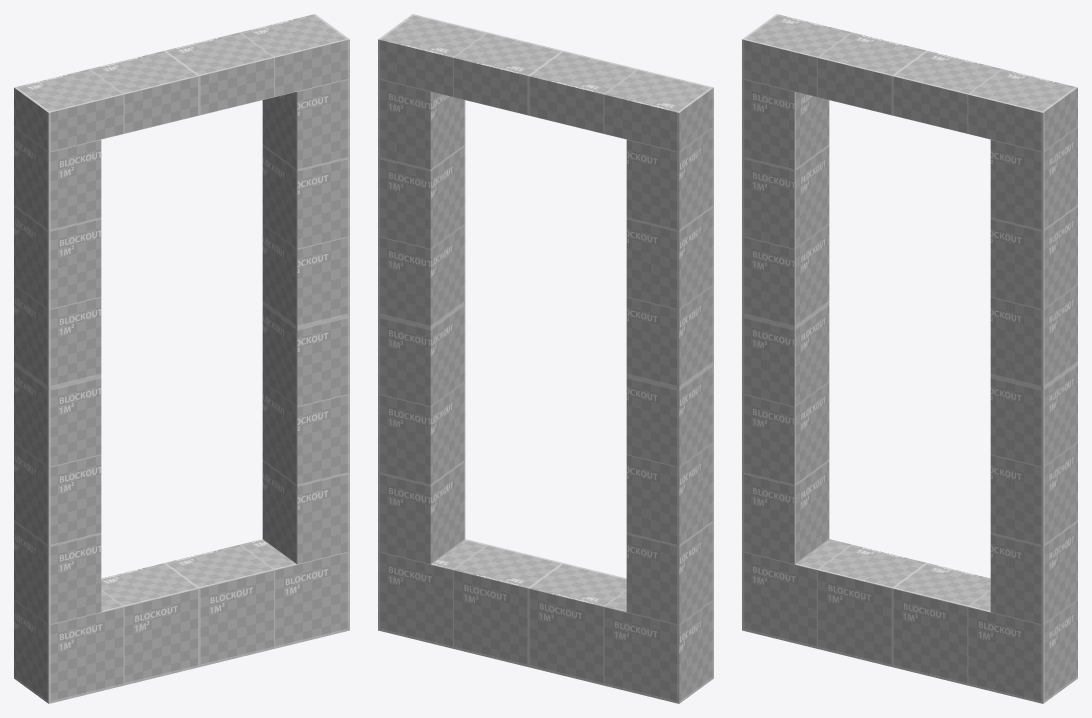
Rendered from BlockoutThickWall04WindowFull.fbx.
3 renders of one model, left to right at view 1: azimuth 30°, elevation 25°; view 2: azimuth 150°, elevation 25°; view 3: azimuth 330°, elevation 25°, orthographic.
Parts seen in each view (by area): view 1: BlockoutThickWall04WindowFull; view 2: BlockoutThickWall04WindowFull; view 3: BlockoutThickWall04WindowFull.
Boxes of the visible parts, x1=… form: BlockoutThickWall04WindowFull: x1=14, y1=14, x2=349, y2=703; BlockoutThickWall04WindowFull: x1=378, y1=14, x2=713, y2=703; BlockoutThickWall04WindowFull: x1=742, y1=14, x2=1077, y2=703.
Size of the model in its own units: 400 by 750 by 80.
